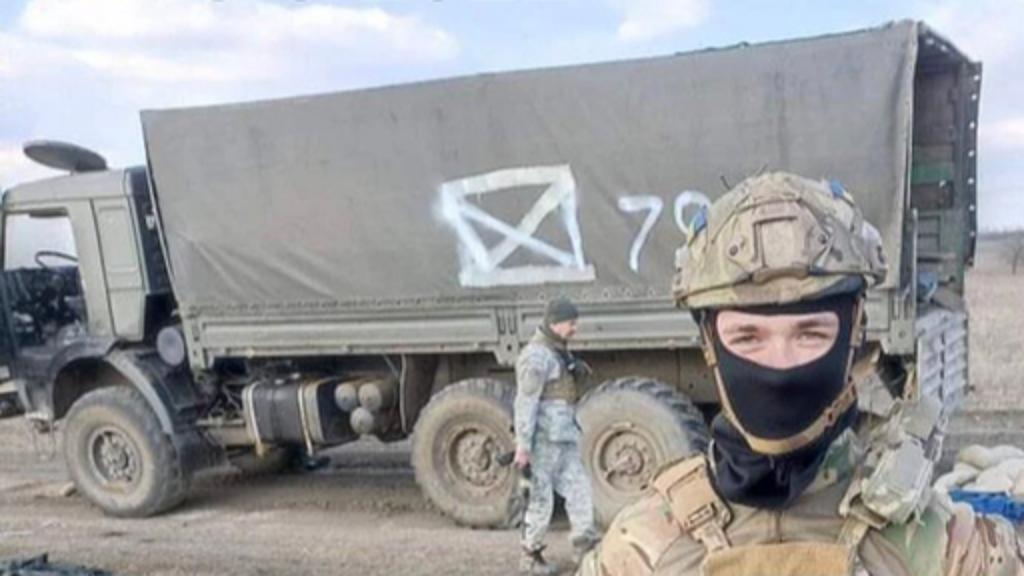TRUCK: (0, 16, 986, 520)
